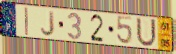2: (90, 14, 106, 44)
3: (66, 11, 83, 41)
5: (116, 14, 134, 47)
I: (24, 6, 30, 37)
J: (40, 10, 56, 38)
U: (136, 16, 158, 49)
